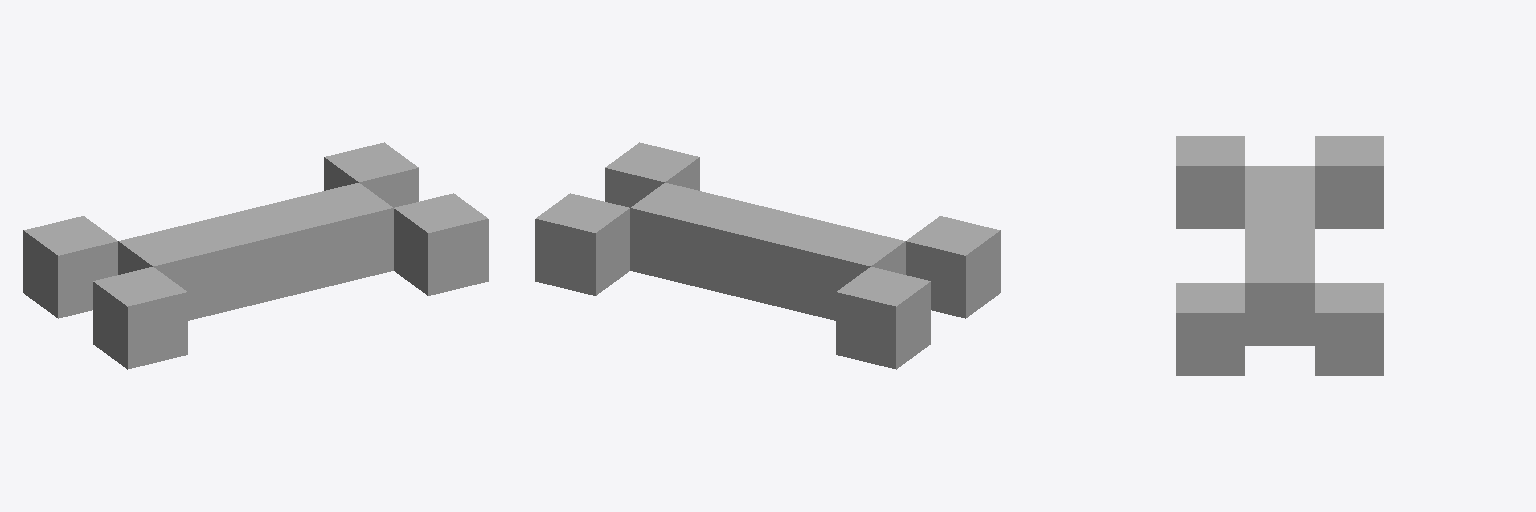
The picture shows the model from 3 angles: view 1: azimuth 30°, elevation 25°; view 2: azimuth 150°, elevation 25°; view 3: azimuth 270°, elevation 25°; orthographic projection.
Visible parts, largest first — view 1: object 1; view 2: object 1; view 3: object 1.
Part boxes in pixels (left/top/right/bottom): object 1: left=23, top=142, right=488, bottom=369; object 1: left=535, top=142, right=1000, bottom=369; object 1: left=1176, top=136, right=1383, bottom=375.
Size of the model in its own units: 0.6 by 0.1 by 0.3.
1 materials, 1 textured.